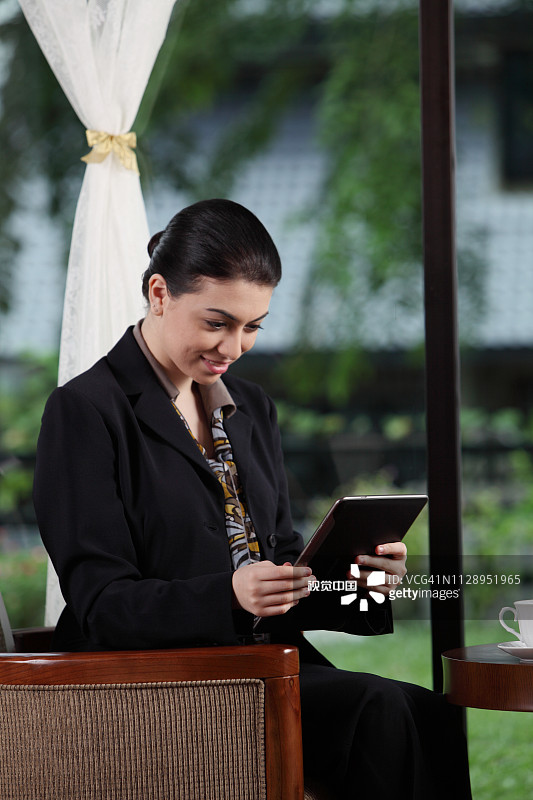reading: (217, 515, 439, 634)
